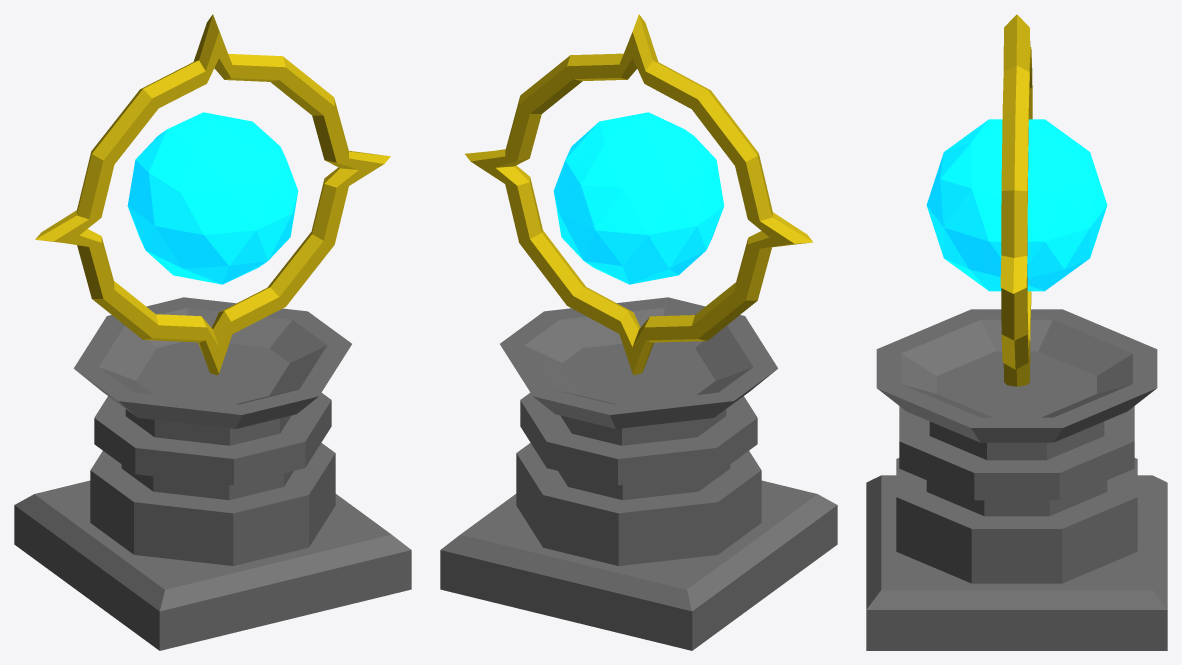
The model's file is Checkpoint.glb.
3 renders of one model, left to right at view 1: azimuth 30°, elevation 25°; view 2: azimuth 150°, elevation 25°; view 3: azimuth 270°, elevation 25°, orthographic. The views are drawn at different scales.
Visible parts, largest first — view 1: Checkpoint Base; view 2: Checkpoint Base; view 3: Checkpoint Base.
Boxes of the visible parts, <box> form: Checkpoint Base: <box>14,14,411,650</box>; Checkpoint Base: <box>440,14,837,650</box>; Checkpoint Base: <box>866,14,1167,650</box>.
Bounding box in the file's own units: 0.6999 × 1.05 × 0.5.
